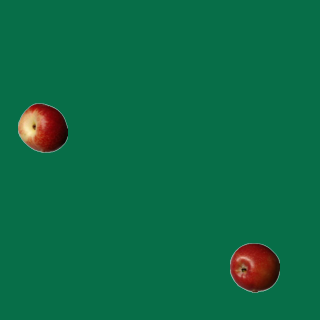Apple Braeburn: (229, 242, 279, 292)
Nectarine: (17, 102, 67, 152)
